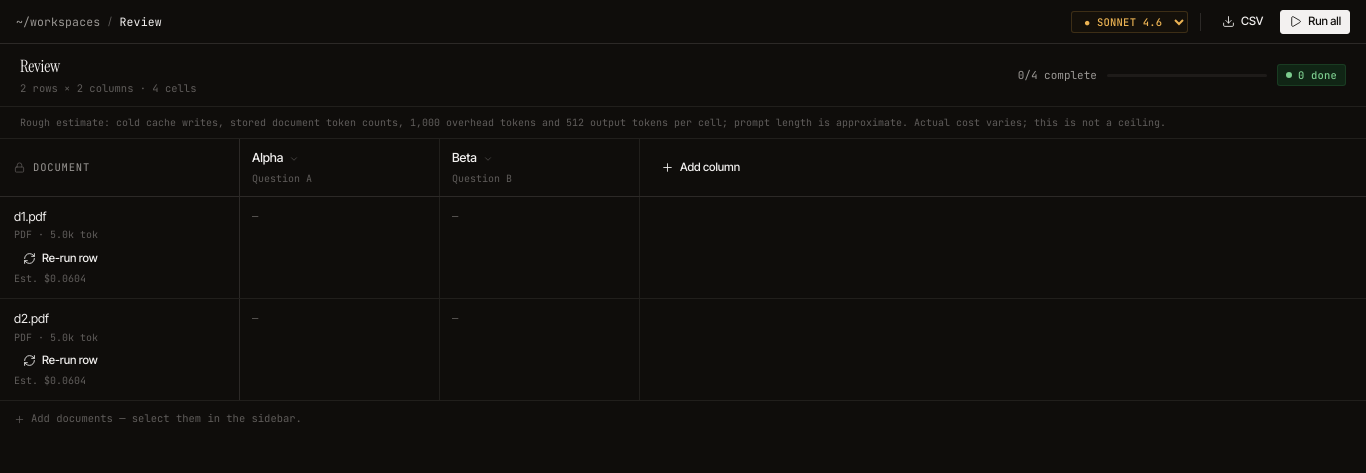
Test: row and column re-runs › forces only the chosen row or column, shows subset usage, and keeps Run all's skip behavior
Click the button "Run all". click: (1315,22)
box: x1=1280 y1=10 x2=1350 y2=34
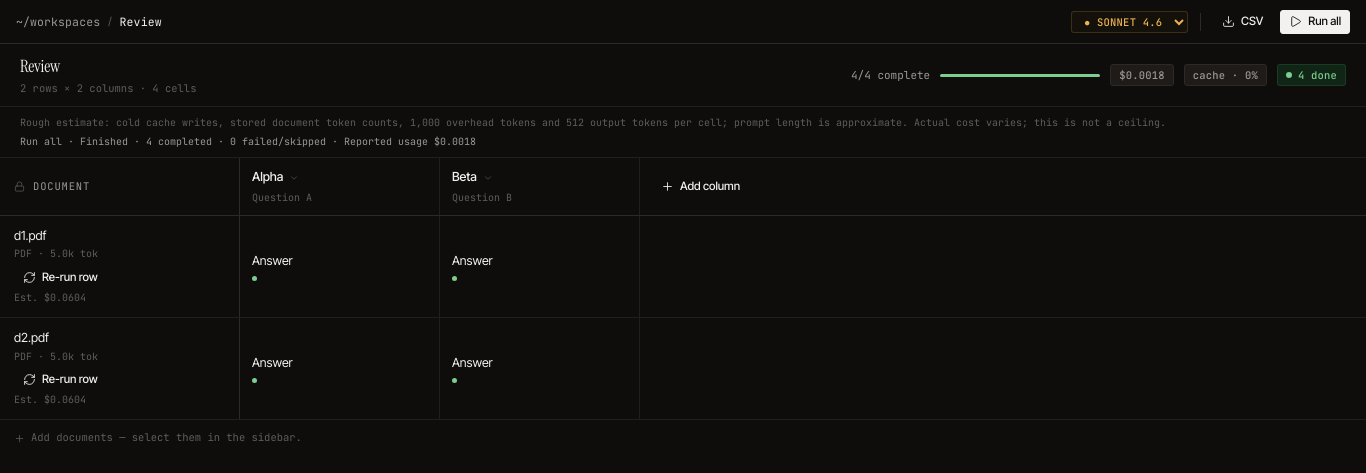
Expected: the message shows "Finished · 4 completed", x1=20 y1=135 x2=476 y2=148
Click the button "Run all". click: (1315,22)
box: x1=1280 y1=10 x2=1350 y2=34
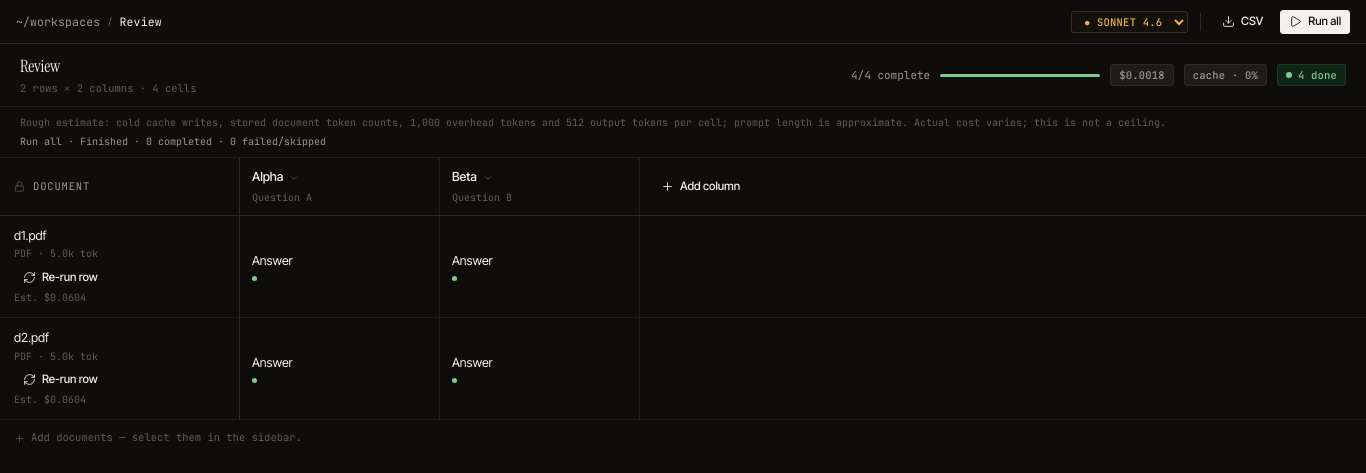
Expected: the text "Est. $0.0604" is shown 2 times, x1=14 y1=291 x2=86 y2=304; x1=14 y1=393 x2=86 y2=406
Expected: the message shows "Finished · 0 completed", x1=20 y1=135 x2=326 y2=148
Click the button with aria-label "Re-run row: d1.pdf". click: (60,277)
box: x1=14 y1=265 x2=107 y2=289
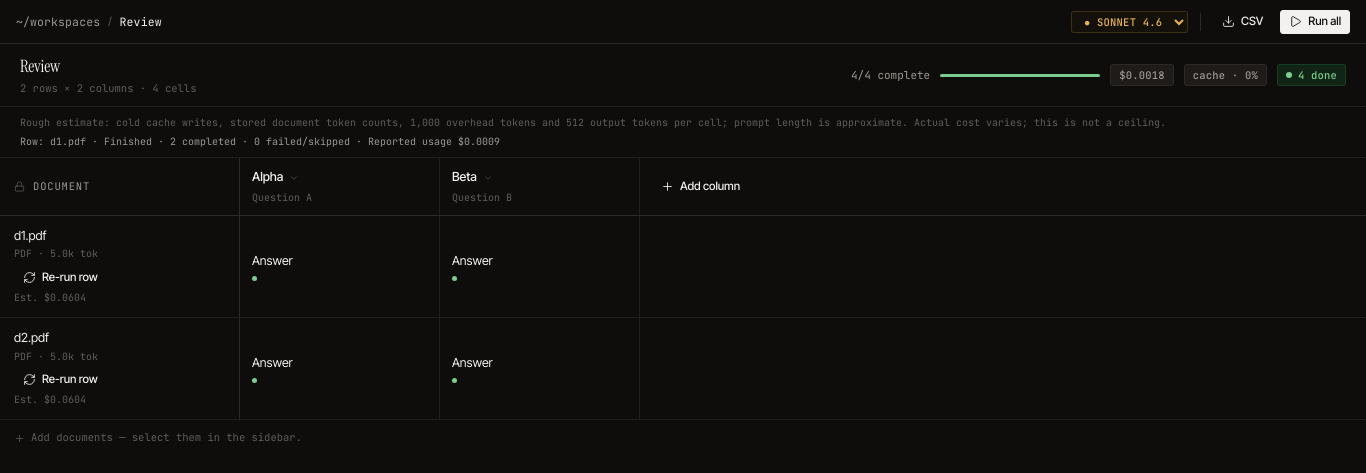
Expected: the text "Answer" is shown 4 times, x1=252 y1=253 x2=293 y2=268; x1=452 y1=253 x2=493 y2=268; x1=252 y1=355 x2=293 y2=370; x1=452 y1=355 x2=493 y2=370
Expected: the message shows "Row: d1.pdf · Finished · 2 completed", x1=20 y1=135 x2=500 y2=148
Expected: the message shows "Reported usage $0.0009", x1=350 y1=135 x2=500 y2=148
Select "● HAIKU 5.5" in the dropdown named "Review model". click: (1130,22)
box: x1=1071 y1=10 x2=1188 y2=32
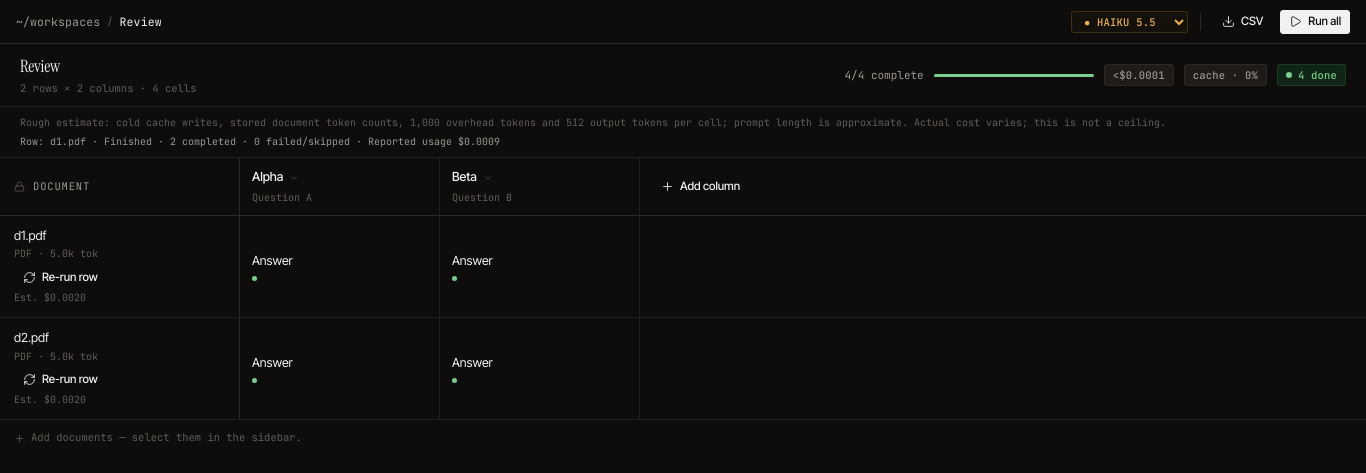
Click the text "Beta". click: (464,178)
box: x1=452 y1=168 x2=477 y2=187
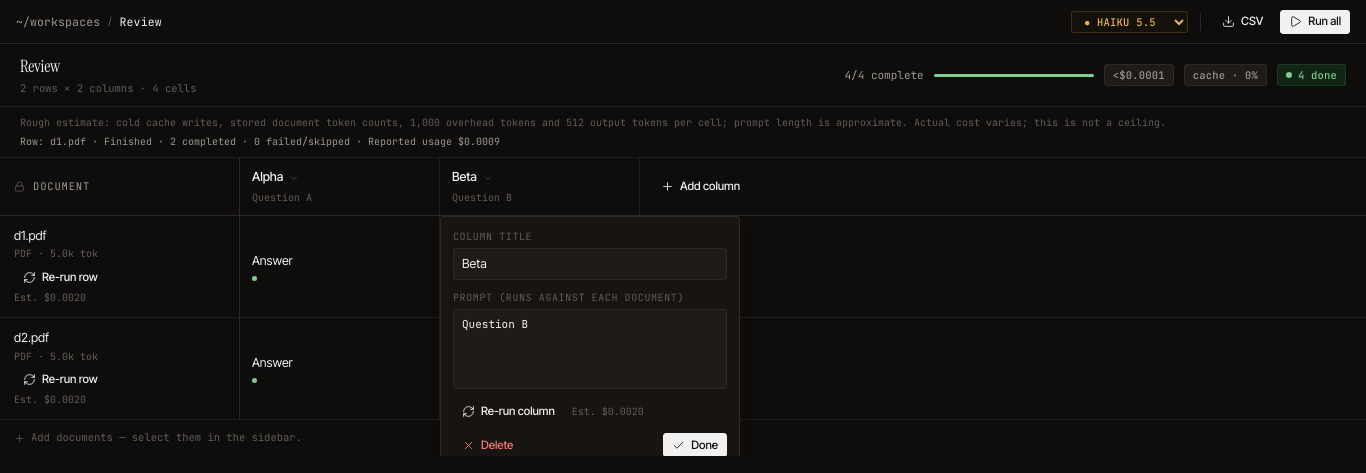
Expected: the text "Est. $0.0020" is shown 3 times, x1=572 y1=404 x2=644 y2=419; x1=14 y1=291 x2=86 y2=304; x1=14 y1=393 x2=86 y2=406
Click the button "Re-run column". click: (508,411)
box: x1=453 y1=399 x2=564 y2=423
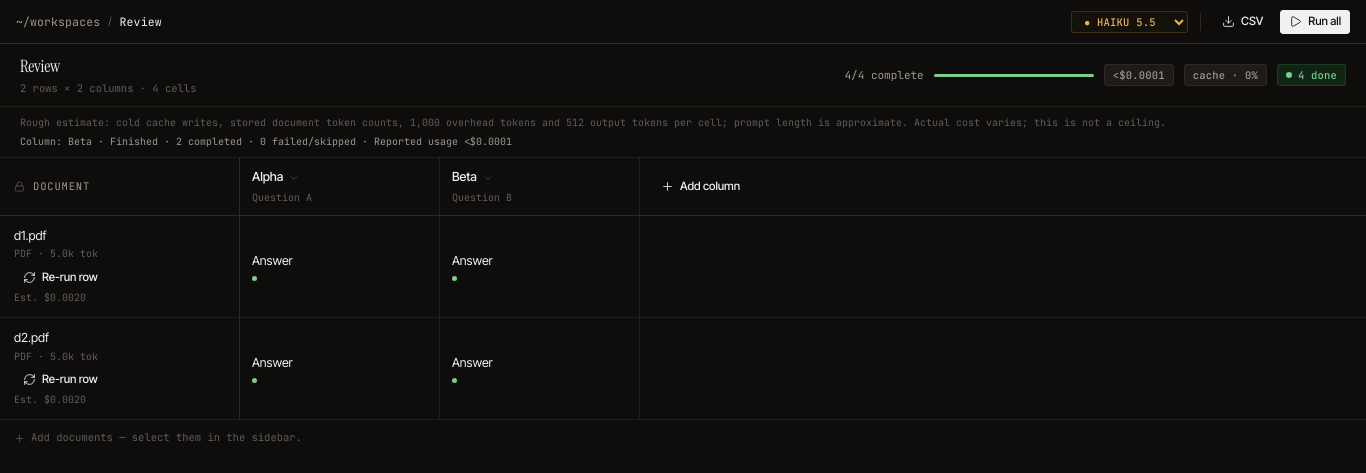
Expected: the message shows "Column: Beta · Finished · 2 completed", x1=20 y1=135 x2=512 y2=148
Expected: the label labelled "Column title" is gone
